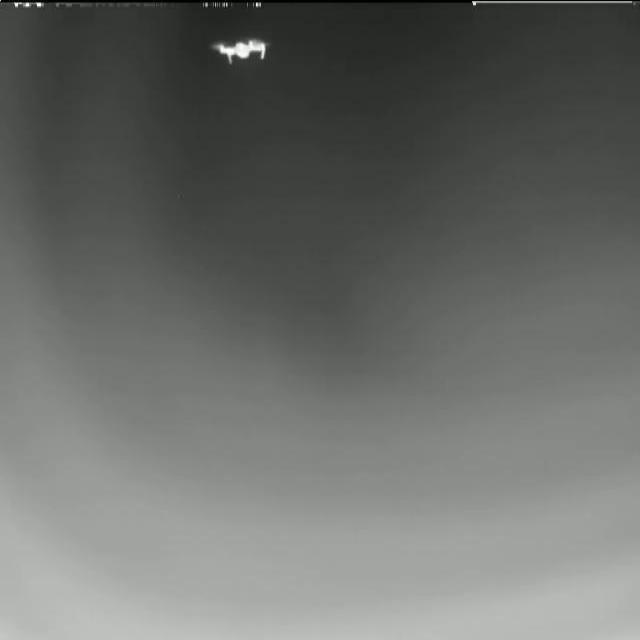DRONE: (208, 36, 270, 65)
